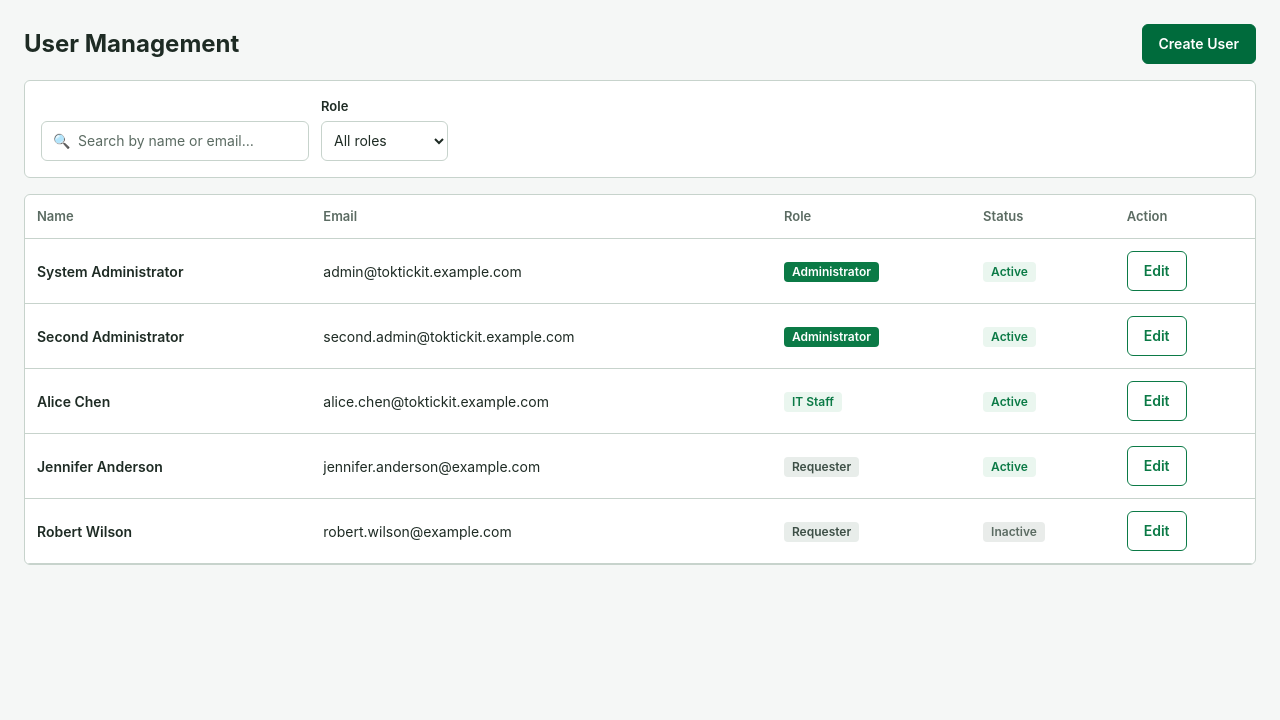
Test: UI-08 — User Management list, search, filter and modals (ui-spec §7) › filters by role and sends `role` to the API
The width and height of the screenshot is (1280, 720).
Expected: the element with test id "users-table" is shown, [24,194,1256,565]
Select "IT Staff" in the dropdown named "Filter by role" at (384, 140), box [321,120,448,160]
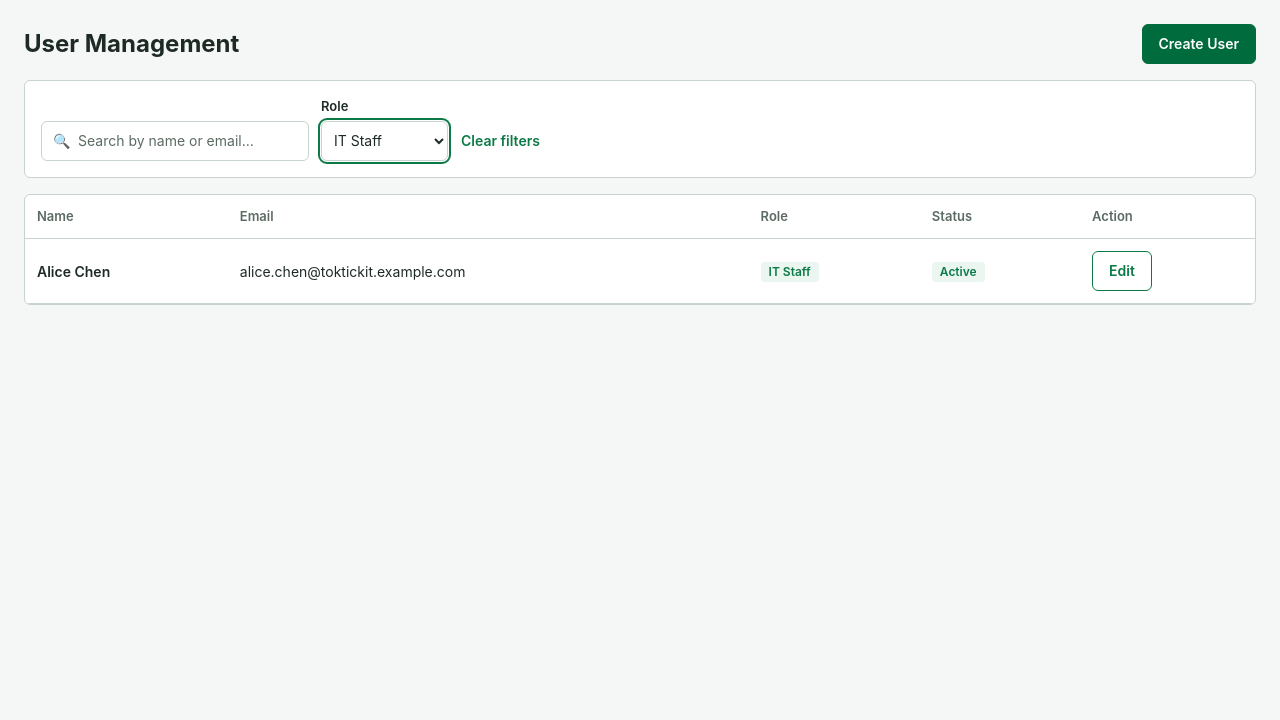
Expected: the text "Alice Chen" is shown, [37,262,110,280]
Result: the number of rows with test id "user-row" is 1 at [25,238,1255,304]
